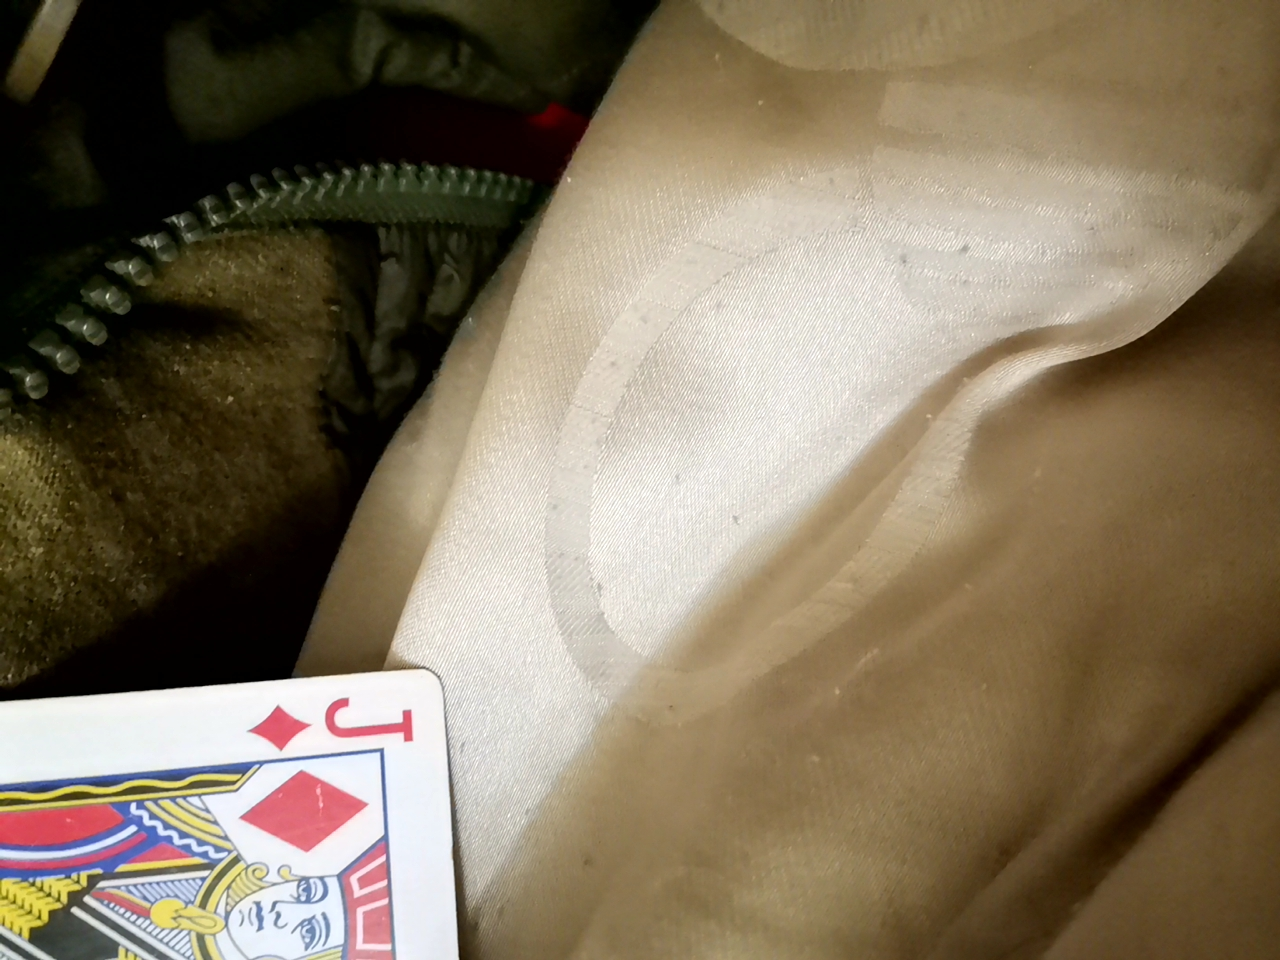fk j: (0, 687, 459, 960)
